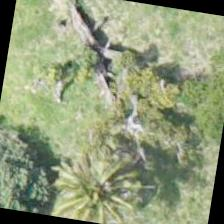Kelapa_Sawit: (48, 135, 151, 223)
